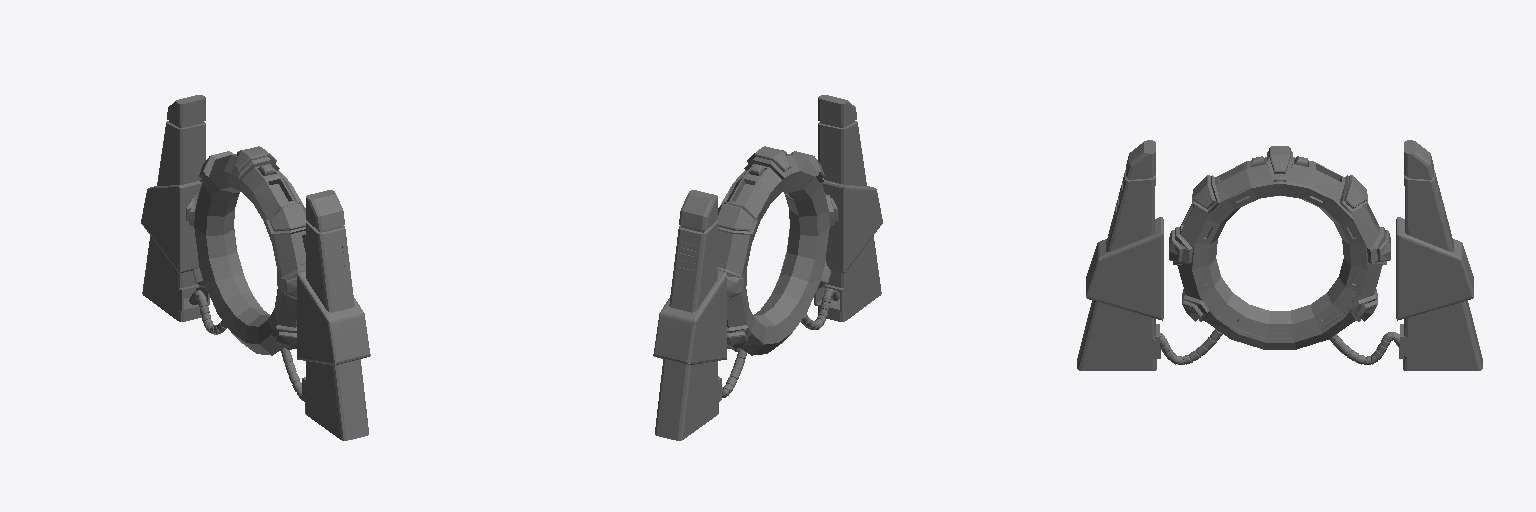
File: portal_without_warp.obj
3 views of the same model, side by side, from view 1: azimuth 30°, elevation 25°; view 2: azimuth 150°, elevation 25°; view 3: azimuth 270°, elevation 25° (orthographic).
Parts seen in each view (by area): view 1: generators, GatePortal, Pipes; view 2: generators, GatePortal, Pipes; view 3: generators, GatePortal, Pipes.
Part boxes in pixels (bbox=[...]): generators: bbox=[141, 95, 370, 440]; GatePortal: bbox=[186, 146, 306, 355]; Pipes: bbox=[189, 290, 304, 401]; generators: bbox=[653, 95, 882, 440]; GatePortal: bbox=[717, 146, 837, 355]; Pipes: bbox=[718, 288, 839, 397]; generators: bbox=[1077, 140, 1482, 370]; GatePortal: bbox=[1169, 146, 1390, 349]; Pipes: bbox=[1160, 329, 1399, 364].
Size of the model in its own units: 0.8189 by 4.09 by 6.89.